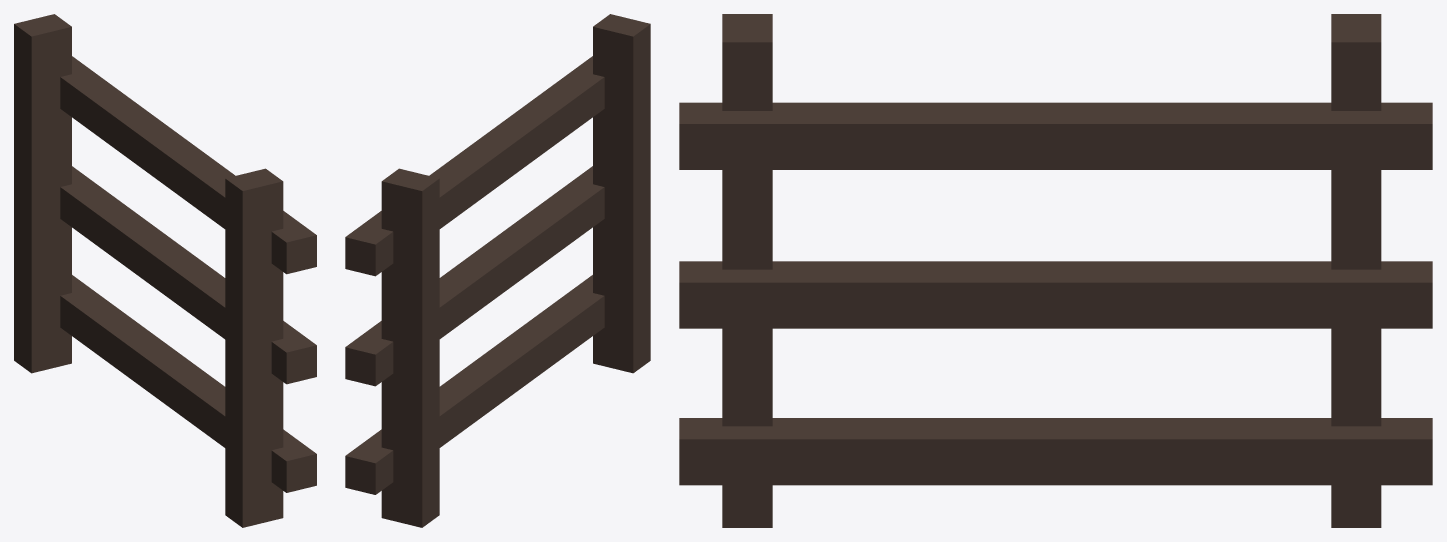
The model's file is plot_1blend.fbx.
The picture shows the model from 3 angles, left to right: view 1: azimuth 30°, elevation 25°; view 2: azimuth 150°, elevation 25°; view 3: azimuth 270°, elevation 25°; orthographic projection. The views are drawn at different scales.
Visible parts, largest first — view 1: Cube.003; view 2: Cube.003; view 3: Cube.003.
Part boxes in pixels (<box>): Cube.003: <box>14,14,316,527</box>; Cube.003: <box>345,14,650,527</box>; Cube.003: <box>679,14,1432,527</box>.
Bounding box in the file's own units: 1.11 × 6.03 × 8.49.
